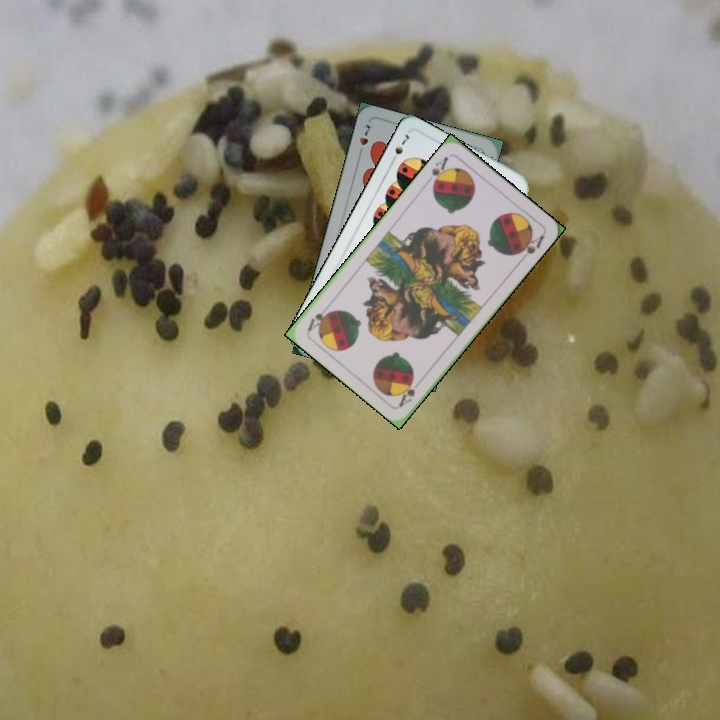H7: (354, 120, 374, 159)
S7: (387, 130, 412, 166)
SA: (422, 152, 451, 190), (394, 375, 425, 409)
